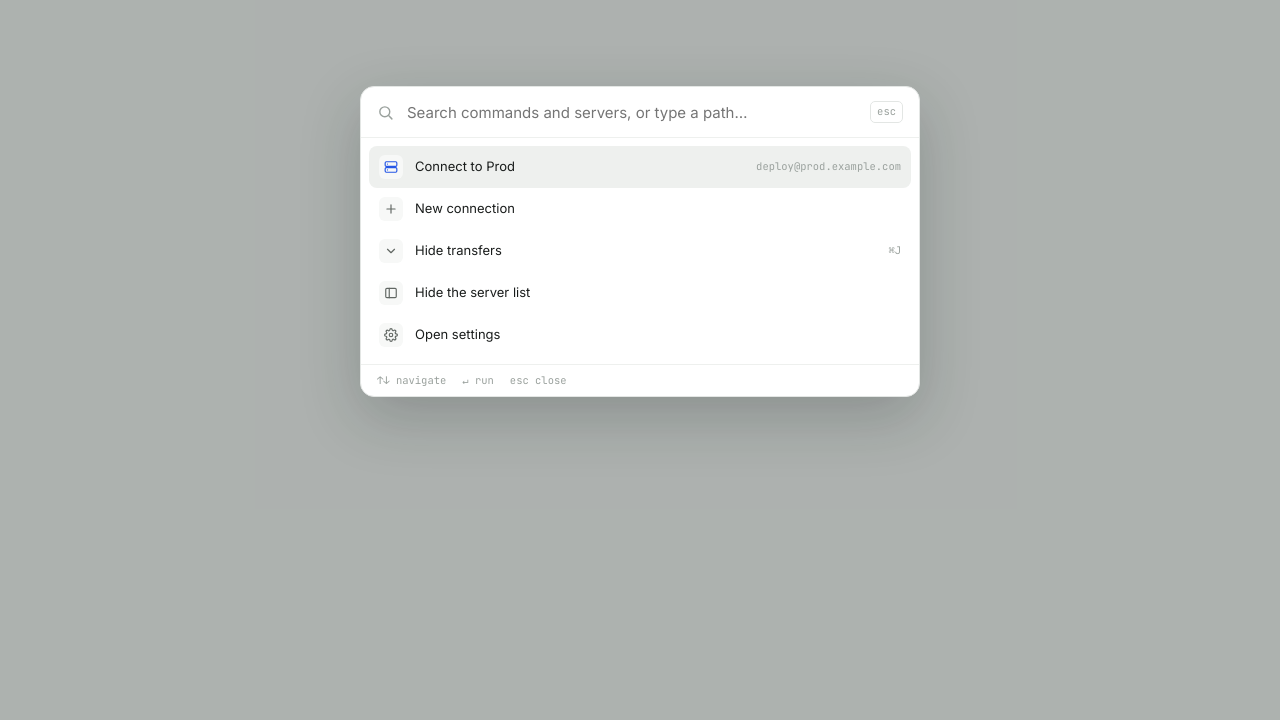
the command palette › says so when nothing matches
In the dropdown: x=632, y=112 [405, 102, 859, 122], type "zzzz"
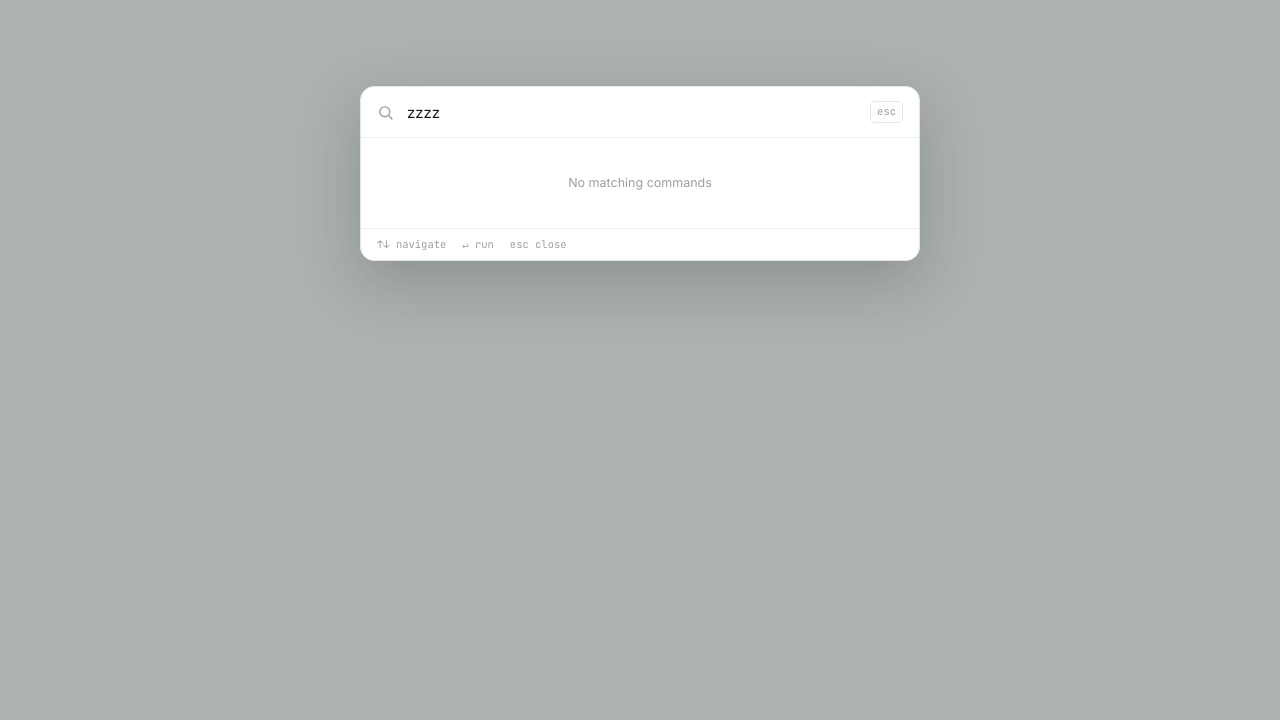
Result: the text "No matching commands" is shown at [568, 175, 712, 190]
